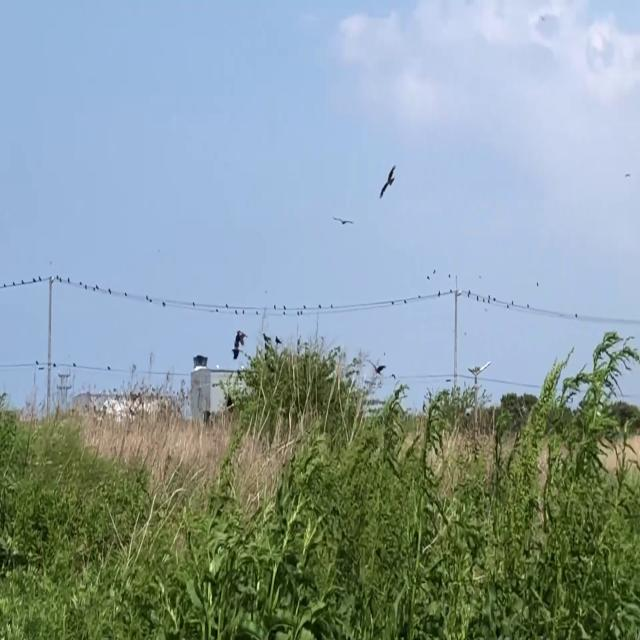bird: (380, 157, 396, 212), (232, 324, 243, 362), (336, 210, 352, 232), (372, 355, 384, 381)
